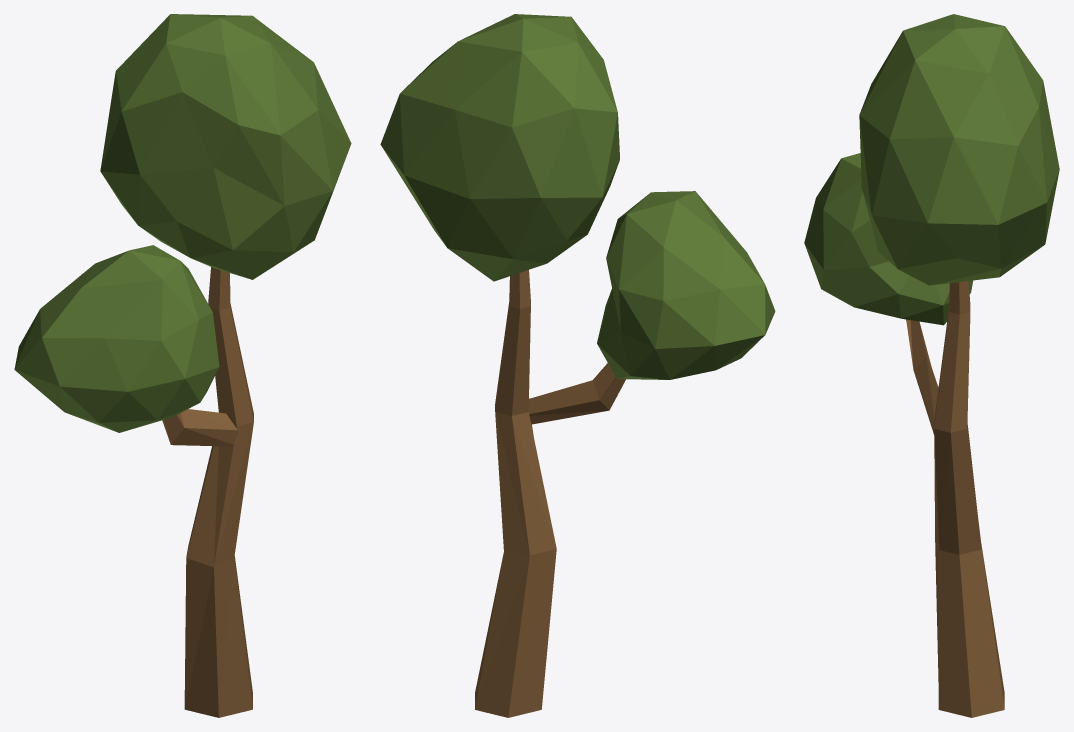
File: Tree_2_3.FBX
3 views of the same model, side by side, from view 1: azimuth 30°, elevation 25°; view 2: azimuth 150°, elevation 25°; view 3: azimuth 270°, elevation 25° (orthographic). The views are drawn at different scales.
Visible parts, largest first — view 1: Tree_2_3; view 2: Tree_2_3; view 3: Tree_2_3.
Part boxes in pixels (left/top/right/bottom): Tree_2_3: left=14, top=14, right=351, bottom=717; Tree_2_3: left=380, top=14, right=775, bottom=717; Tree_2_3: left=804, top=14, right=1059, bottom=717.
Bounding box in the file's own units: 115 × 217 × 74.94.
1 material, 1 textured.
